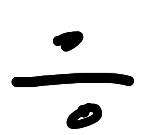div: (11, 31, 134, 128)
